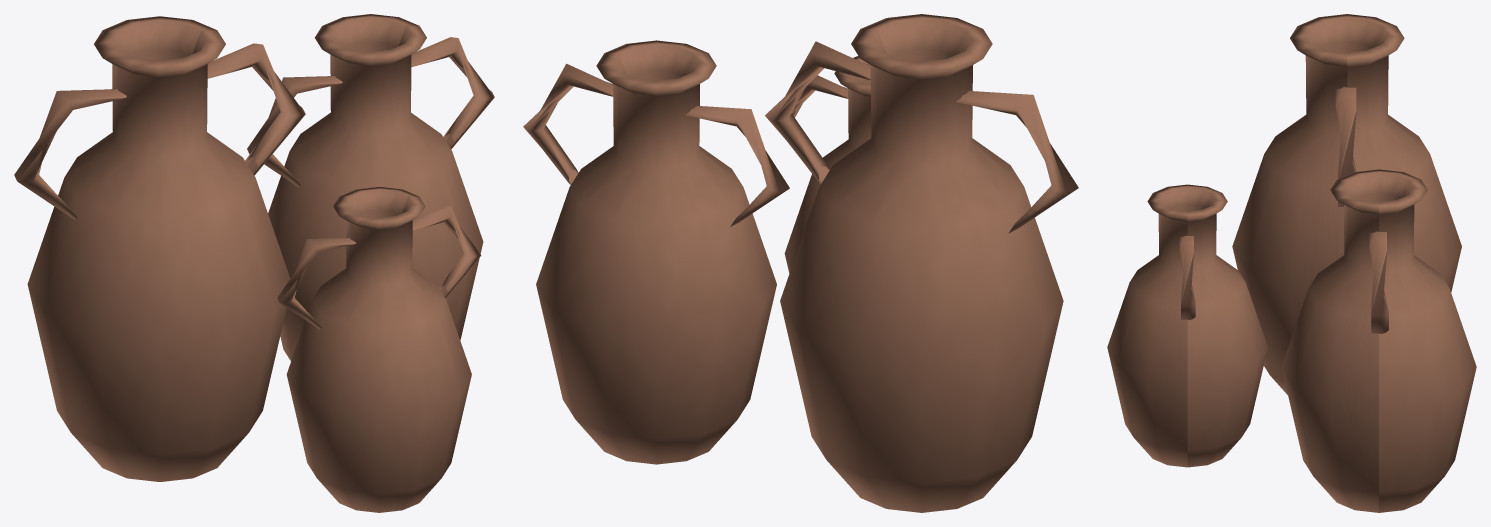
The model's file is s06-vorratsgefaesse.glb.
3 views of the same model, side by side, from view 1: azimuth 30°, elevation 25°; view 2: azimuth 150°, elevation 25°; view 3: azimuth 270°, elevation 25° (orthographic). The views are drawn at different scales.
Visible parts, largest first — view 1: s06-vorratsgefaesse; view 2: s06-vorratsgefaesse; view 3: s06-vorratsgefaesse.
Part boxes in pixels (x1=…): s06-vorratsgefaesse: x1=14, y1=14, x2=494, y2=512; s06-vorratsgefaesse: x1=523, y1=14, x2=1078, y2=512; s06-vorratsgefaesse: x1=1107, y1=14, x2=1476, y2=512.
Size of the model in its own units: 0.7801 by 0.6245 by 0.579.
Materials: 1 (1 with a texture image).
